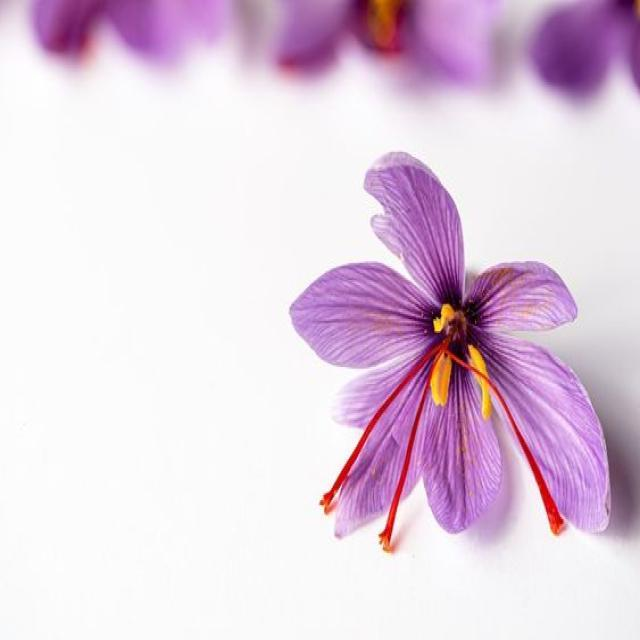Flower: (297, 146, 616, 540)
stigma: (428, 330, 580, 550), (314, 326, 429, 523), (380, 387, 424, 572)
